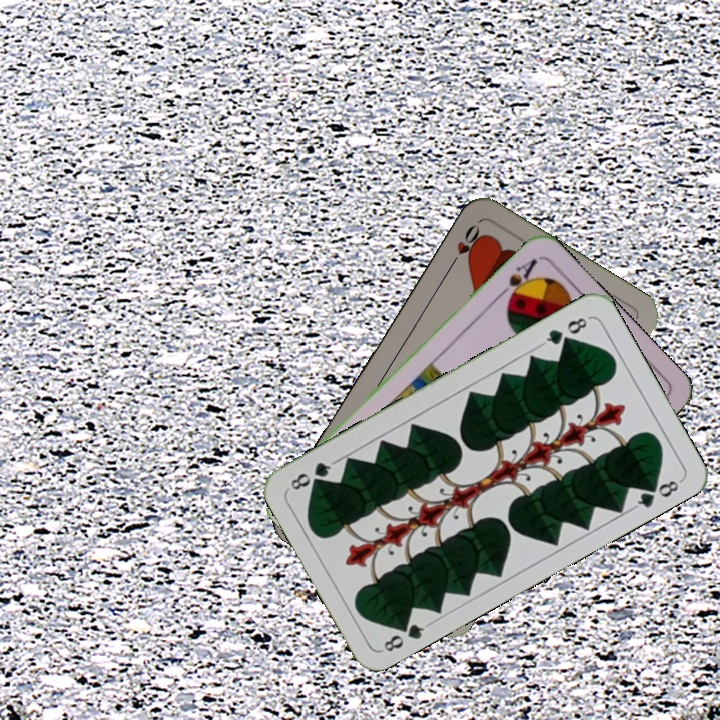G8: (379, 615, 432, 655), (538, 313, 592, 348)
HO: (444, 220, 484, 272)
SA: (493, 254, 541, 307)
